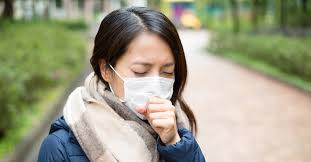mask: (95, 16, 187, 119)
